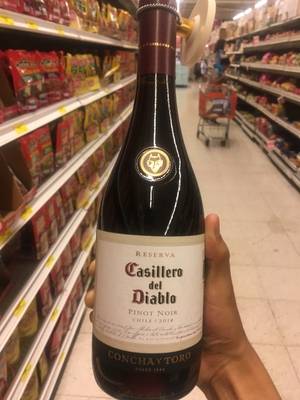casillero del diablo pinot noir: (84, 10, 215, 383)
